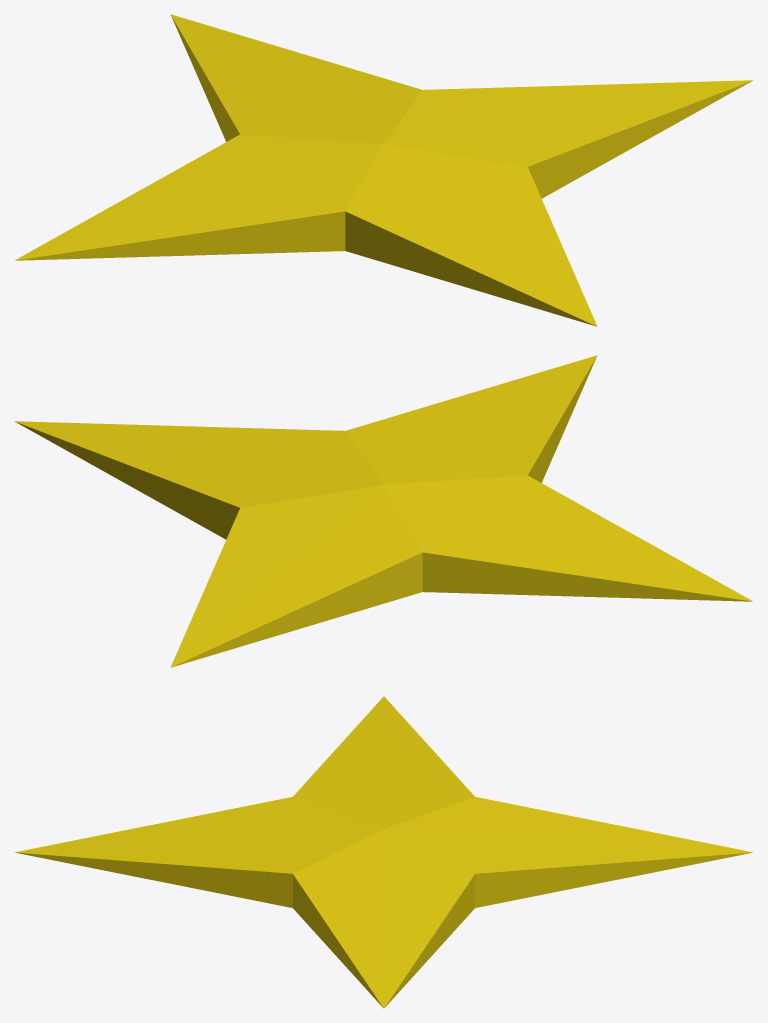
File: StarY.fbx
3 renders of one model, top to bottom at view 1: azimuth 30°, elevation 25°; view 2: azimuth 150°, elevation 25°; view 3: azimuth 270°, elevation 25°, orthographic. The views are drawn at different scales.
Visible parts, largest first — view 1: Star; view 2: Star; view 3: Star.
Boxes of the visible parts, x1,y1,x2,y2 form: Star: (15, 14, 752, 326); Star: (15, 355, 752, 667); Star: (14, 696, 753, 1008).
Bounding box in the file's own units: 174 × 12.09 × 174.
